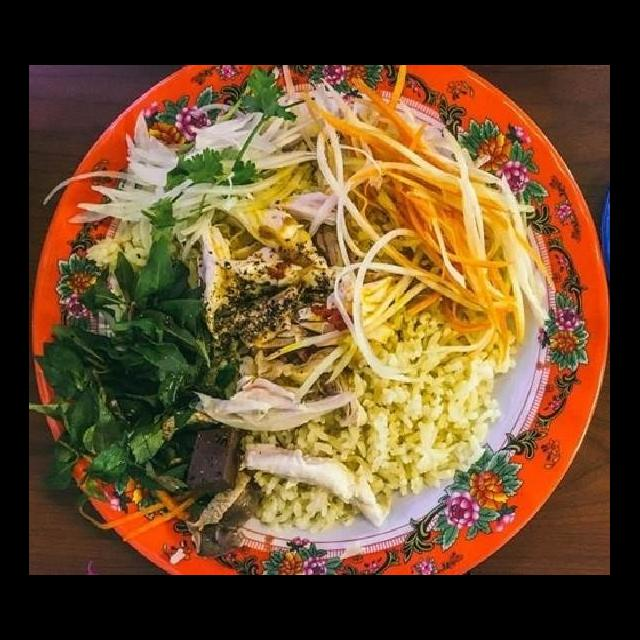com: (368, 313, 508, 511), (244, 425, 406, 535)
com ga: (32, 100, 541, 575)
rau ram: (31, 227, 226, 508)
thit ga: (185, 201, 372, 435), (235, 442, 394, 529)
